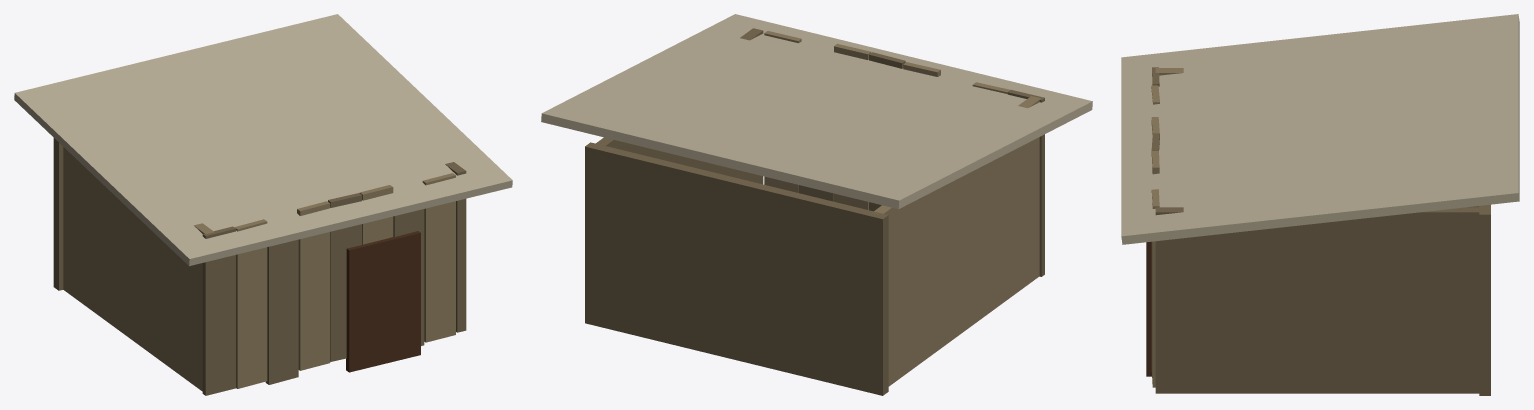
File: shack_a.glb
3 renders of one model, left to right at view 1: azimuth 30°, elevation 25°; view 2: azimuth 150°, elevation 25°; view 3: azimuth 270°, elevation 25°, orthographic. The views are drawn at different scales.
Visible parts, largest first — view 1: shack_a; view 2: shack_a; view 3: shack_a.
Part boxes in pixels (x1,y1,x2,y2): shack_a: [14, 14, 512, 395]; shack_a: [541, 14, 1092, 395]; shack_a: [1121, 14, 1519, 395].
Size of the model in its own units: 3.6 by 2.14 by 3.39.
